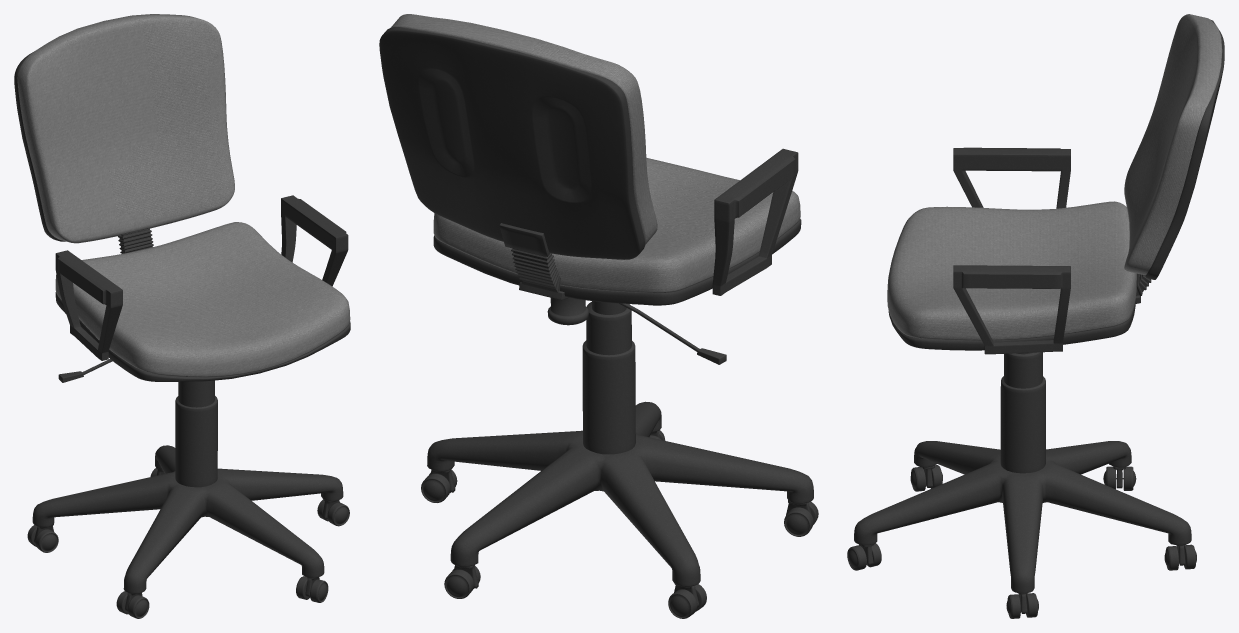
Rendered from OfficeChair.glb.
3 views of the same model, side by side, from view 1: azimuth 30°, elevation 25°; view 2: azimuth 150°, elevation 25°; view 3: azimuth 270°, elevation 25° (orthographic). The views are drawn at different scales.
Visible parts, largest first — view 1: Office Chair; view 2: Office Chair; view 3: Office Chair.
Boxes of the visible parts, x1,y1,x2,y2 form: Office Chair: (14,14,350,618); Office Chair: (379,14,818,618); Office Chair: (847,14,1224,618).
Size of the model in its own units: 2.03 by 3.38 by 2.31.
2 materials, 2 textured.
